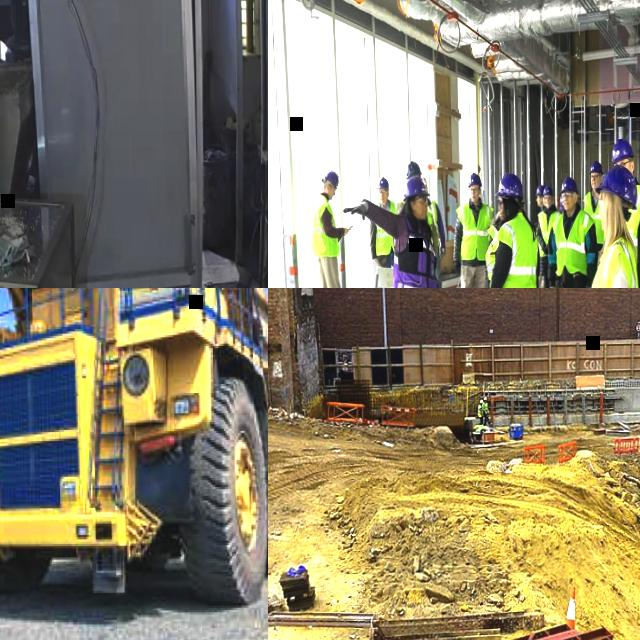Hardhat: (594, 165, 637, 211), (493, 172, 524, 198), (402, 177, 430, 201), (610, 139, 634, 165), (558, 176, 578, 197), (323, 170, 339, 190), (405, 160, 421, 180), (466, 172, 482, 189), (588, 161, 604, 176), (375, 177, 389, 191), (542, 185, 553, 197), (534, 185, 544, 197), (420, 175, 427, 185), (559, 196, 563, 207), (479, 399, 483, 404), (483, 397, 487, 401)
NO-Mask: (414, 207, 427, 219), (562, 201, 574, 211), (470, 194, 478, 204), (591, 181, 600, 189), (599, 214, 603, 232), (499, 208, 504, 221), (379, 197, 387, 205), (329, 190, 333, 201), (545, 202, 551, 208), (537, 201, 541, 207)
Person: (341, 175, 450, 288), (582, 162, 640, 288), (482, 170, 541, 288), (546, 175, 598, 288), (450, 171, 494, 288), (309, 170, 350, 288), (609, 138, 640, 288), (393, 158, 440, 256), (367, 175, 399, 288), (420, 173, 446, 288), (535, 184, 561, 288), (580, 161, 605, 261), (533, 184, 550, 288), (482, 397, 490, 427), (477, 399, 483, 425)
Safety Cone: (563, 586, 575, 632)
Safety Vest: (484, 212, 538, 288), (388, 212, 437, 288), (582, 236, 640, 288), (551, 208, 595, 276), (455, 201, 493, 261), (306, 195, 340, 257), (621, 181, 640, 268), (395, 201, 431, 245), (373, 199, 398, 254), (581, 192, 604, 245), (536, 210, 561, 257), (428, 198, 440, 257), (536, 211, 542, 247), (486, 224, 498, 239), (477, 405, 483, 418), (483, 403, 487, 411)
vehicle: (0, 288, 268, 610)
